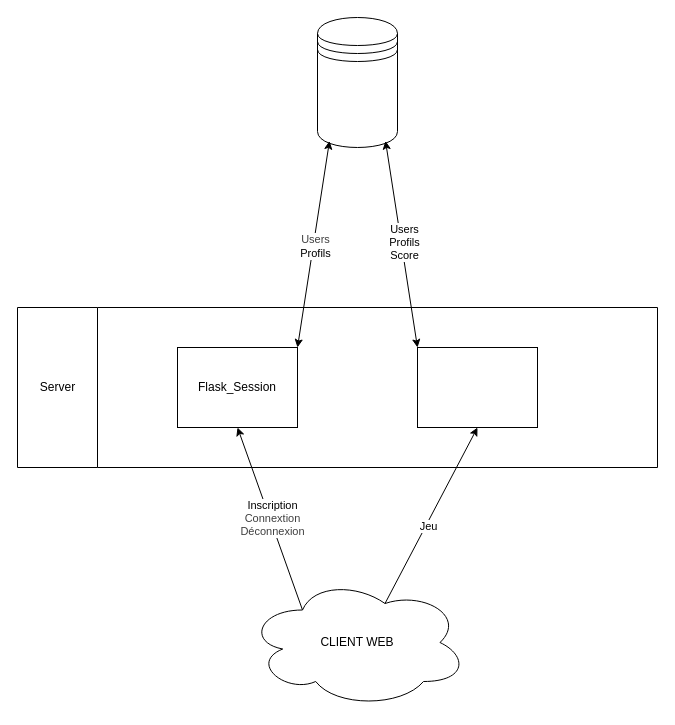
The diagram is 675 pixels wide and 725 high, and some of its shapes have lost their labels. Each missing label, with the centre of its shape:
DataBase: the point at 357,82
Flask_SocketIO: the point at 477,387
